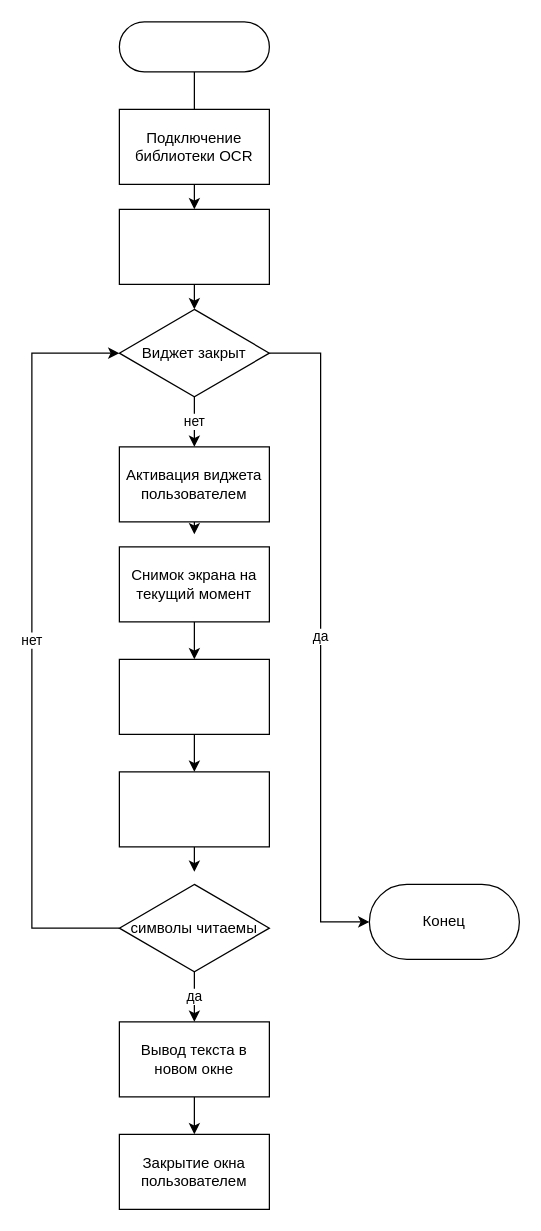
Some shapes in this 541 by 1231 pixel diagram are drawn without their labels. Each missing label, with the centre of its shape:
Возможность пользователем выбрать область сканирования: point 193,696
Начало: point 193,46
Обнаружение и сегментация текста: point 193,809
Появление виджета: point 193,246
